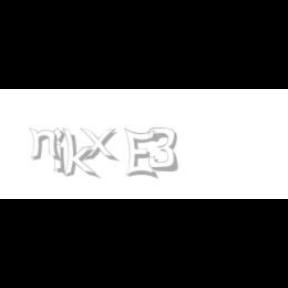3: (148, 128, 180, 172)
E: (124, 128, 158, 180)
i: (53, 128, 69, 176)
k: (62, 128, 100, 180)
n: (28, 128, 62, 162)
x: (80, 128, 122, 162)
